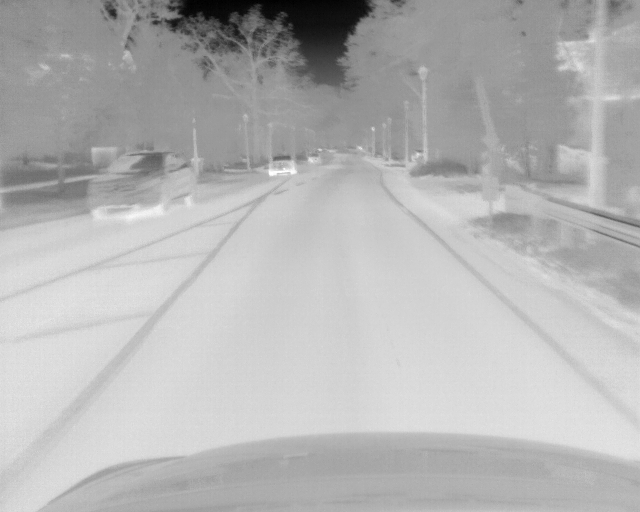car: (86, 150, 198, 221), (266, 154, 297, 179), (307, 152, 319, 166)
